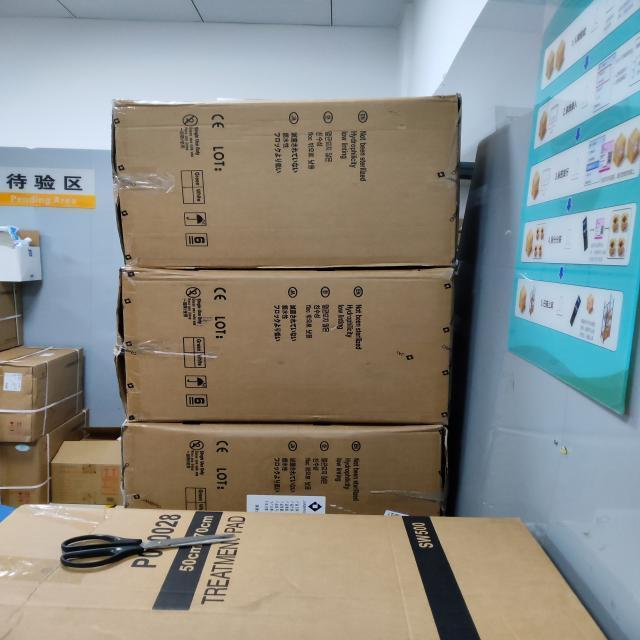box: (0, 501, 610, 640), (113, 96, 457, 270), (116, 268, 454, 423), (118, 424, 446, 512), (0, 412, 89, 506), (0, 346, 85, 443), (52, 424, 128, 502), (0, 223, 42, 285), (0, 285, 23, 349)
